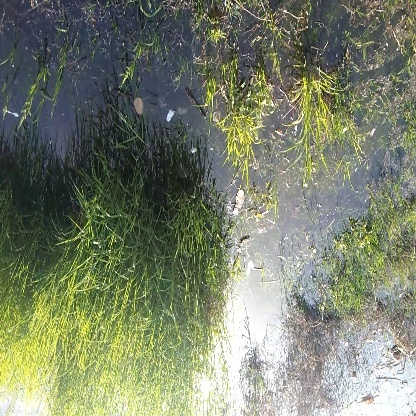grass: (289, 67, 357, 165)
